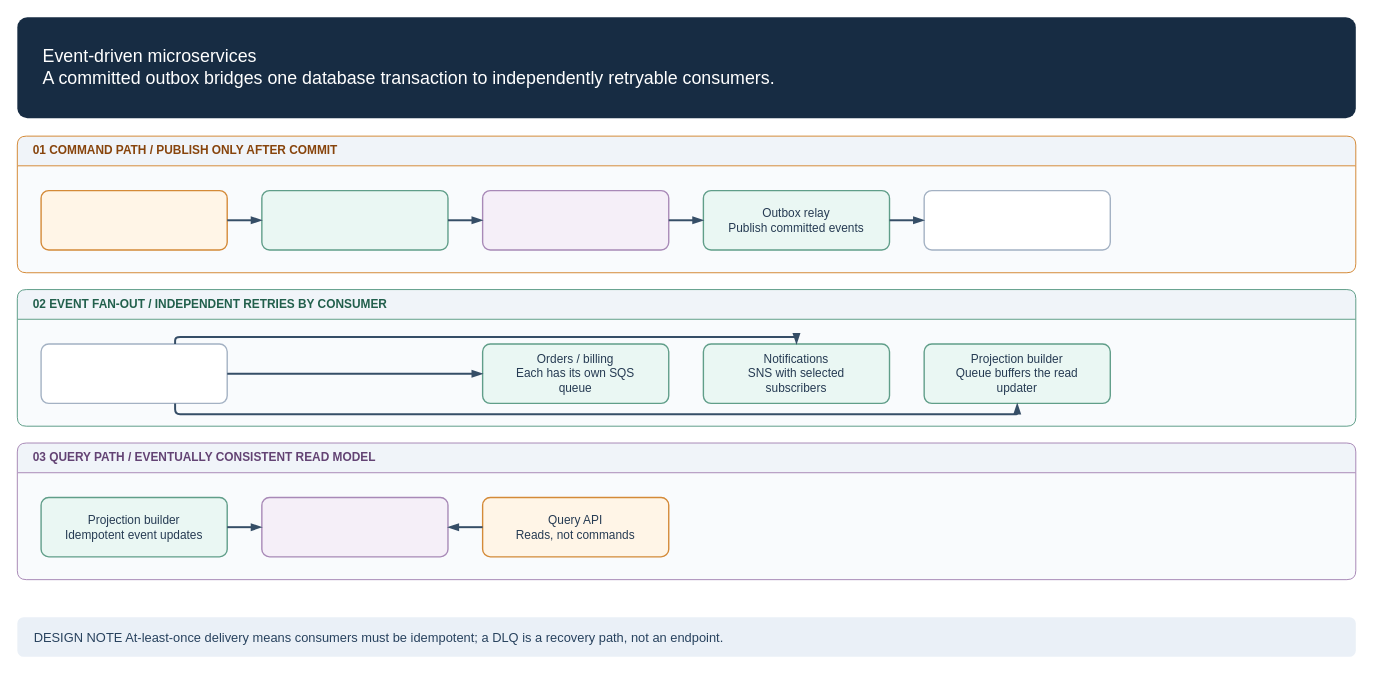
This 1373x673 diagram has some shape labels left out. The shapes that lost their labels are listed below. From the top down, each one's centre as x and y in pixels, then its label:
At (133,219): "Client Via edge/API Gateway or ALB".
At (354,219): "Command service Apply business rules".
At (575,219): "Service database Business rows + outbox in the same transaction".
At (1016,219): "EventBridge Route versioned events".
At (133,373): "EventBridge rules Match event type and version".
At (354,526): "DynamoDB / OpenSearch Materialized read model".
